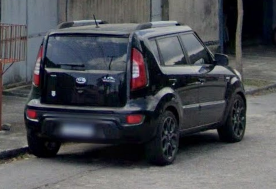car: (24, 21, 247, 166)
